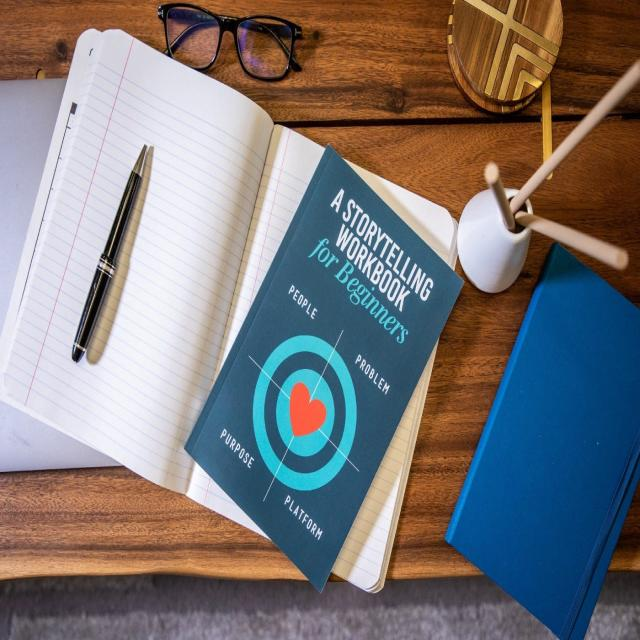book: (0, 24, 457, 592), (186, 141, 469, 597)
glasses: (151, 5, 314, 82)
pen: (74, 146, 153, 365)
